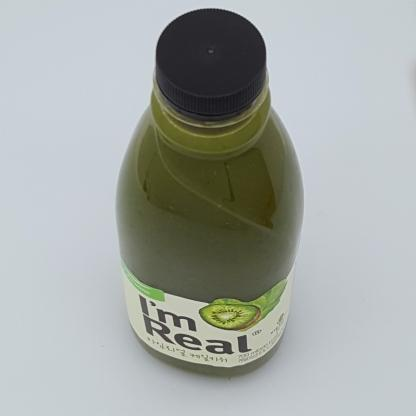-----------700ML: (115, 8, 303, 377)
